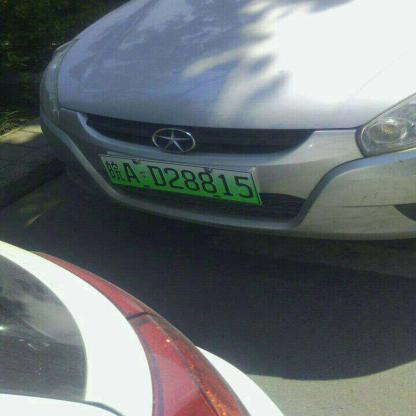lp: (102, 154, 260, 204)
